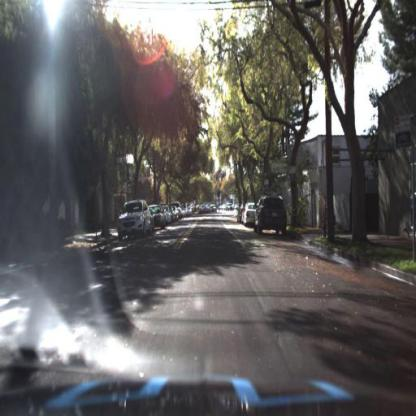car: (252, 193, 290, 238), (116, 197, 152, 241), (256, 193, 290, 231), (243, 200, 259, 226), (243, 200, 255, 229)
